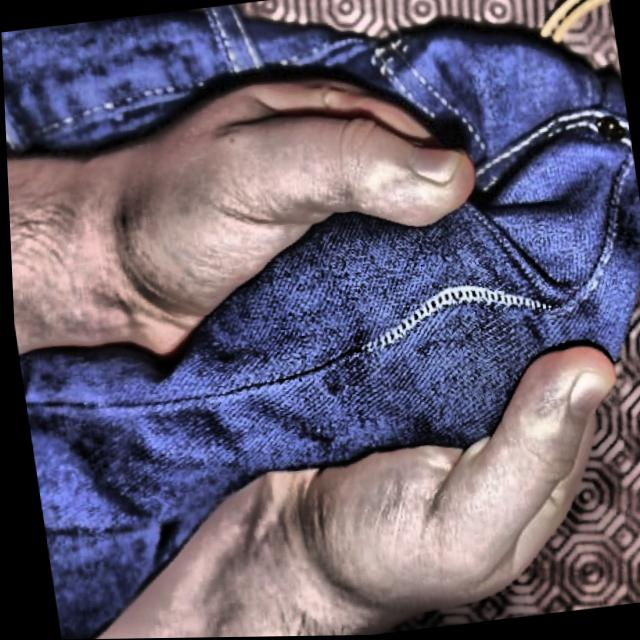seam: (334, 226, 611, 369)
